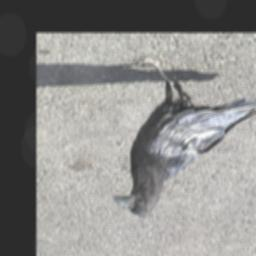Crow: (111, 57, 256, 220)
